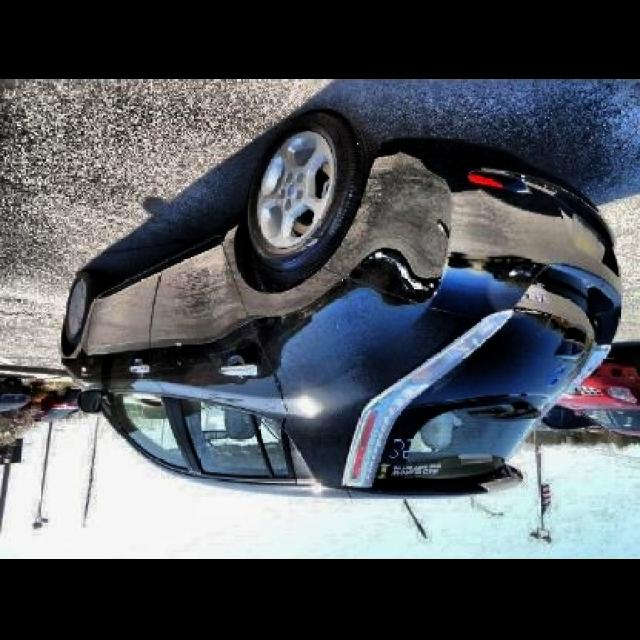black: (62, 118, 622, 507)
